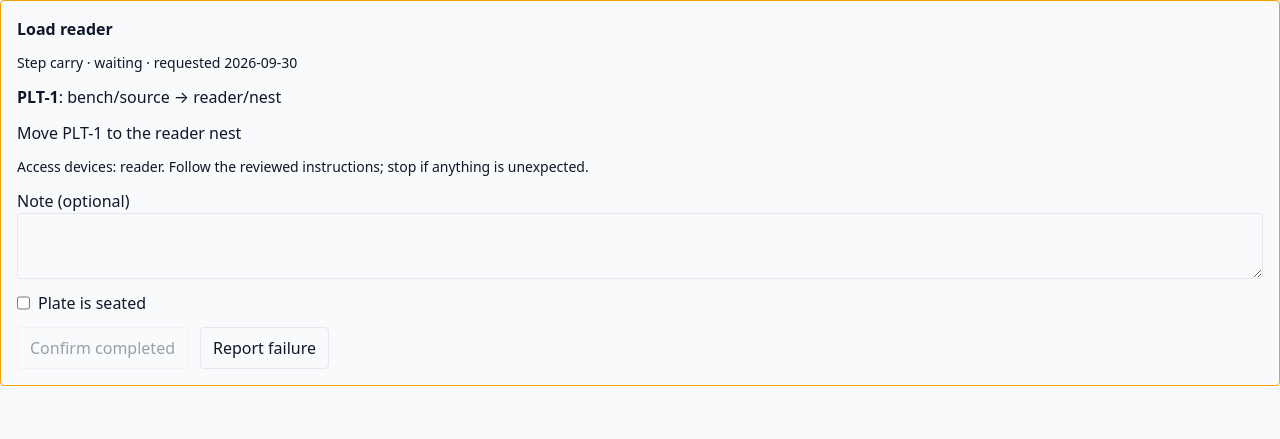
it: human action card › reports failure without completion confirmation and exposes rejected responses
Click the button "Report failure": {"x": 264, "y": 348} 200,327 -> 329,369
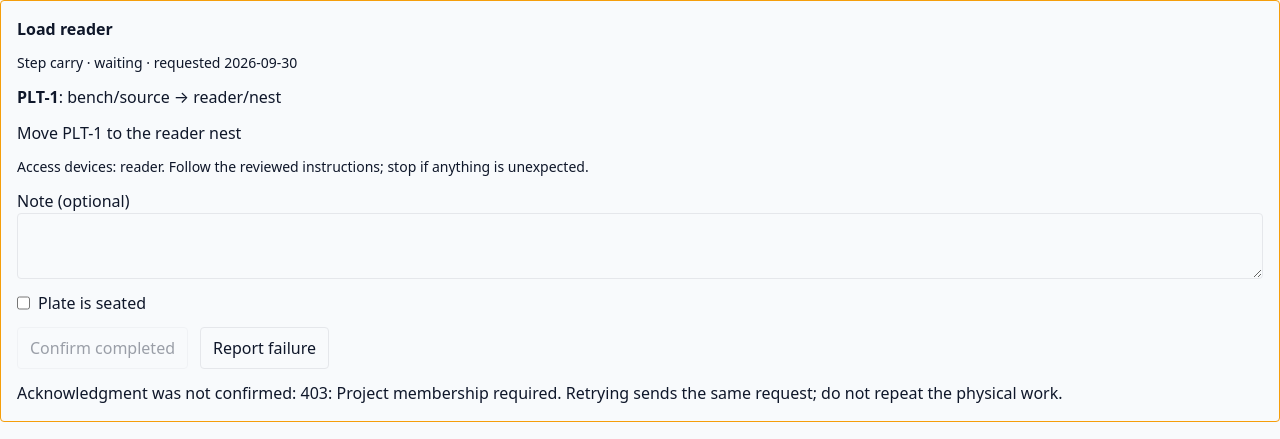
Result: the message shows "Acknowledgment was not confirmed" at 17,382 -> 301,404
